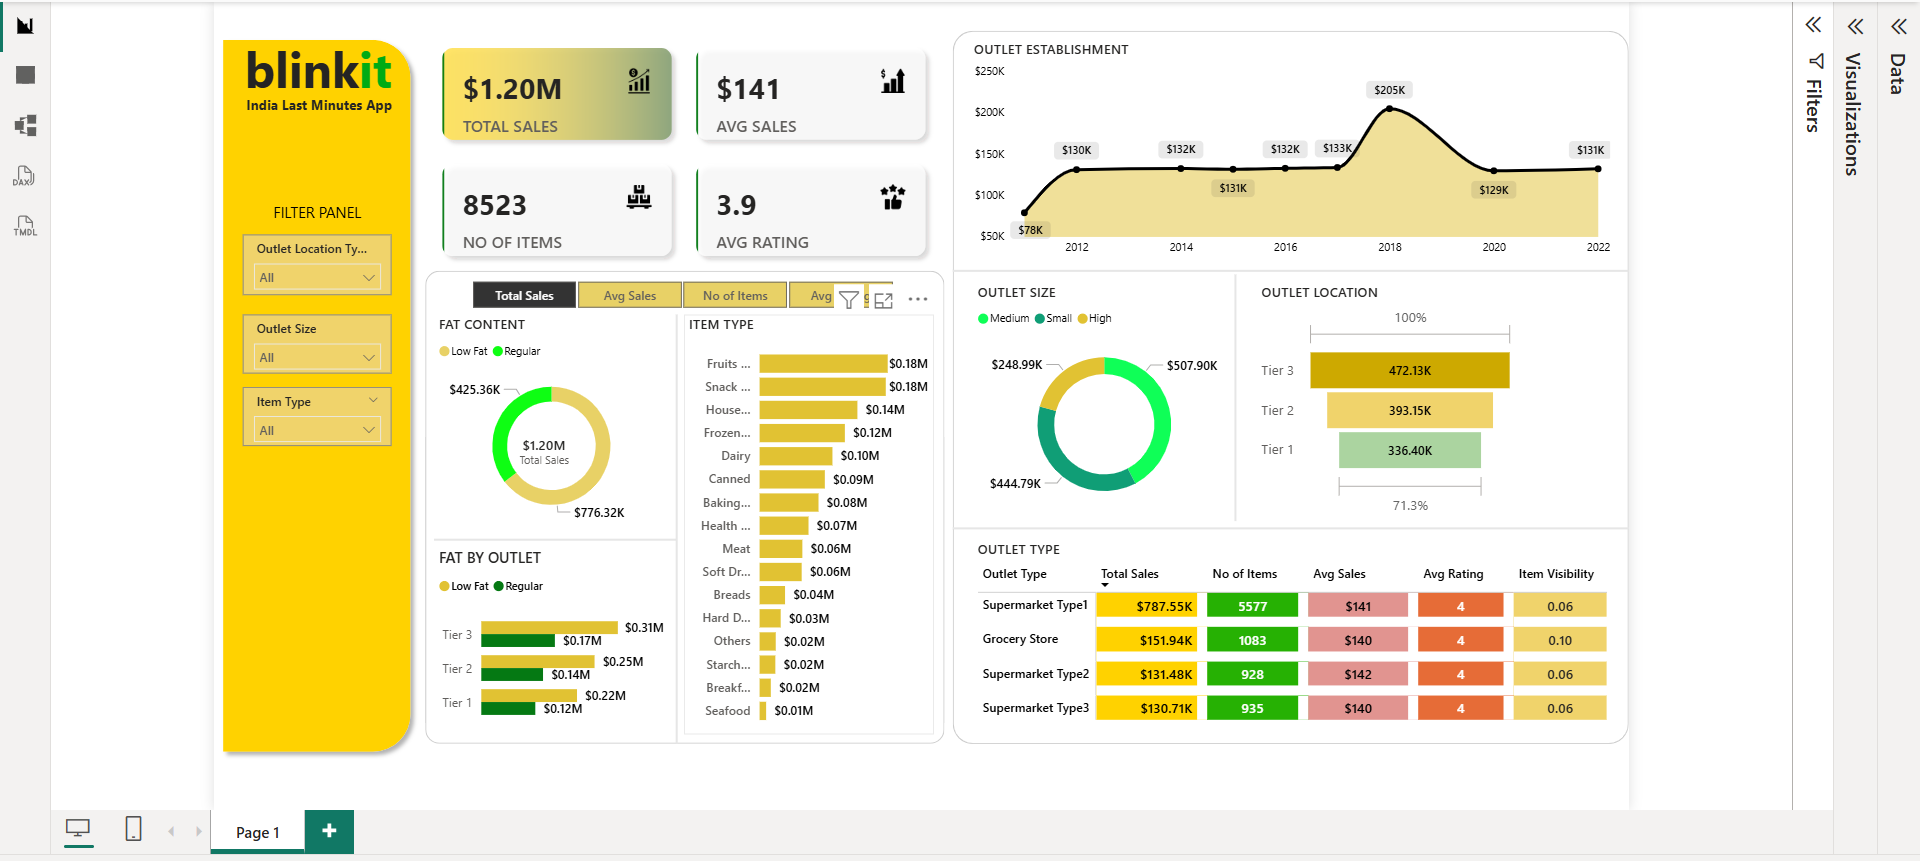

What the dashboard file says about the page in this screenshot:
{"tool":"powerbi","page":{"name":"Page 1","canvas":[1400,800],"ordinal":0},"visuals":[{"type":"shape","box":[0,28,203.5,722.4],"z":0},{"type":"textbox","box":[19.1,28,169.2,91.6],"z":1000},{"type":"FlowVisual_C29F1DCC_81F5_4973_94AD_0517D44CC06A","box":[505.3,0,631.6,96.6],"z":2000},{"type":"textbox","box":[0,87.8,208.6,30.5],"z":3000},{"type":"cardVisual","fields":{"Data":["BlinkIT Grocery Data.Total Sales","BlinkIT Grocery Data.Avg Sales","BlinkIT Grocery Data.No of Items","BlinkIT Grocery Data.Avg Rating"]},"box":[208.6,28,513.8,241.6],"z":4000},{"type":"shape","box":[208.6,265.8,513.8,468],"z":5000},{"type":"donutChart","title":"FAT CONTENT","fields":{"Y":["BlinkIT Grocery Data.Total Sales"],"Category":["BlinkIT Grocery Data.Item Fat Content"]},"box":[217.5,309,232.7,214.9],"z":6000},{"type":"slicer","fields":{"Values":["Metrics.Metrics"]},"box":[230.2,269.6,465.5,39.4],"z":7000},{"type":"cardVisual","fields":{"Data":["BlinkIT Grocery Data.Total Sales"]},"box":[281.1,412.1,92.8,61],"z":8000},{"type":"clusteredBarChart","title":" FAT BY OUTLET","fields":{"Y":["BlinkIT Grocery Data.Total Sales"],"Category":["BlinkIT Grocery Data.Outlet Location Type"],"Series":["BlinkIT Grocery Data.Item Fat Content"]},"box":[217.5,539.2,232.7,185.7],"z":9000},{"type":"shape","box":[217.5,524,240.4,15.3],"z":10000},{"type":"shape","box":[450.2,309,15.3,424.8],"z":11000},{"type":"barChart","title":"ITEM TYPE","fields":{"Y":["BlinkIT Grocery Data.Total Sales"],"Category":["BlinkIT Grocery Data.Item Type"]},"box":[465.5,309,246.7,415.9],"z":12000},{"type":"shape","box":[731.3,28,669,705.9],"z":13000},{"type":"lineChart","title":"OUTLET ESTABLISHMENT","fields":{"Y":["BlinkIT Grocery Data.Total Sales"],"Category":["BlinkIT Grocery Data.Outlet Establishment Year"]},"box":[746.6,36.9,639.7,222.6],"z":14000},{"type":"shape","box":[731.3,262,669,7.6],"z":15000},{"type":"donutChart","title":"OUTLET SIZE","fields":{"Y":["BlinkIT Grocery Data.Total Sales"],"Category":["BlinkIT Grocery Data.Outlet Size"]},"box":[750.4,277.3,260.7,236.6],"z":16000},{"type":"shape","box":[1004.7,269.6,12.7,244.2],"z":17000},{"type":"funnel","title":"OUTLET LOCATION","fields":{"Y":["Sum(BlinkIT Grocery Data.Sales)"],"Category":["BlinkIT Grocery Data.Outlet Location Type"]},"box":[1031.4,277.3,260.7,236.6],"z":18000},{"type":"shape","box":[731.3,517.6,669,7.6],"z":19000},{"type":"pivotTable","title":"OUTLET TYPE","fields":{"Rows":["BlinkIT Grocery Data.Outlet Type"],"Values":["BlinkIT Grocery Data.Total Sales","BlinkIT Grocery Data.No of Items","BlinkIT Grocery Data.Avg Sales","BlinkIT Grocery Data.Avg Rating","Avg(BlinkIT Grocery Data.Item Visibility)"]},"box":[750.4,531.6,635.9,193.3],"z":20000},{"type":"slicer","fields":{"Values":["BlinkIT Grocery Data.Outlet Location Type"]},"box":[28,230.2,147.5,59.8],"z":21000},{"type":"slicer","fields":{"Values":["BlinkIT Grocery Data.Outlet Size"]},"box":[28,309,147.5,58.5],"z":21001},{"type":"slicer","fields":{"Values":["BlinkIT Grocery Data.Item Type"]},"box":[28,381.5,147.5,58.5],"z":21002},{"type":"textbox","box":[28,193.3,147.5,36.9],"z":21003}]}

Visuals, with their boxes on the page's 1400x800 design canvas (x1, y1, x2, y2). These are canvas units, not pixel positions in the 1920x861 screenshot, which may show the page scaled, cropped or inside an application window:
shape: region(0, 28, 204, 750)
textbox: region(19, 28, 188, 120)
FlowVisual_C29F1DCC_81F5_4973_94AD_0517D44CC06A: region(505, 0, 1137, 97)
textbox: region(0, 88, 209, 118)
cardVisual - BlinkIT Grocery Data.Total Sales x BlinkIT Grocery Data.Avg Sales: region(209, 28, 722, 270)
shape: region(209, 266, 722, 734)
"FAT CONTENT" donutChart: region(218, 309, 450, 524)
slicer - Metrics.Metrics: region(230, 270, 696, 309)
cardVisual - BlinkIT Grocery Data.Total Sales: region(281, 412, 374, 473)
" FAT BY OUTLET" clusteredBarChart: region(218, 539, 450, 725)
shape: region(218, 524, 458, 539)
shape: region(450, 309, 466, 734)
"ITEM TYPE" barChart: region(466, 309, 712, 725)
shape: region(731, 28, 1400, 734)
"OUTLET ESTABLISHMENT" lineChart: region(747, 37, 1386, 260)
shape: region(731, 262, 1400, 270)
"OUTLET SIZE" donutChart: region(750, 277, 1011, 514)
shape: region(1005, 270, 1017, 514)
"OUTLET LOCATION" funnel: region(1031, 277, 1292, 514)
shape: region(731, 518, 1400, 525)
"OUTLET TYPE" pivotTable: region(750, 532, 1386, 725)
slicer - BlinkIT Grocery Data.Outlet Location Type: region(28, 230, 176, 290)
slicer - BlinkIT Grocery Data.Outlet Size: region(28, 309, 176, 368)
slicer - BlinkIT Grocery Data.Item Type: region(28, 382, 176, 440)
textbox: region(28, 193, 176, 230)
